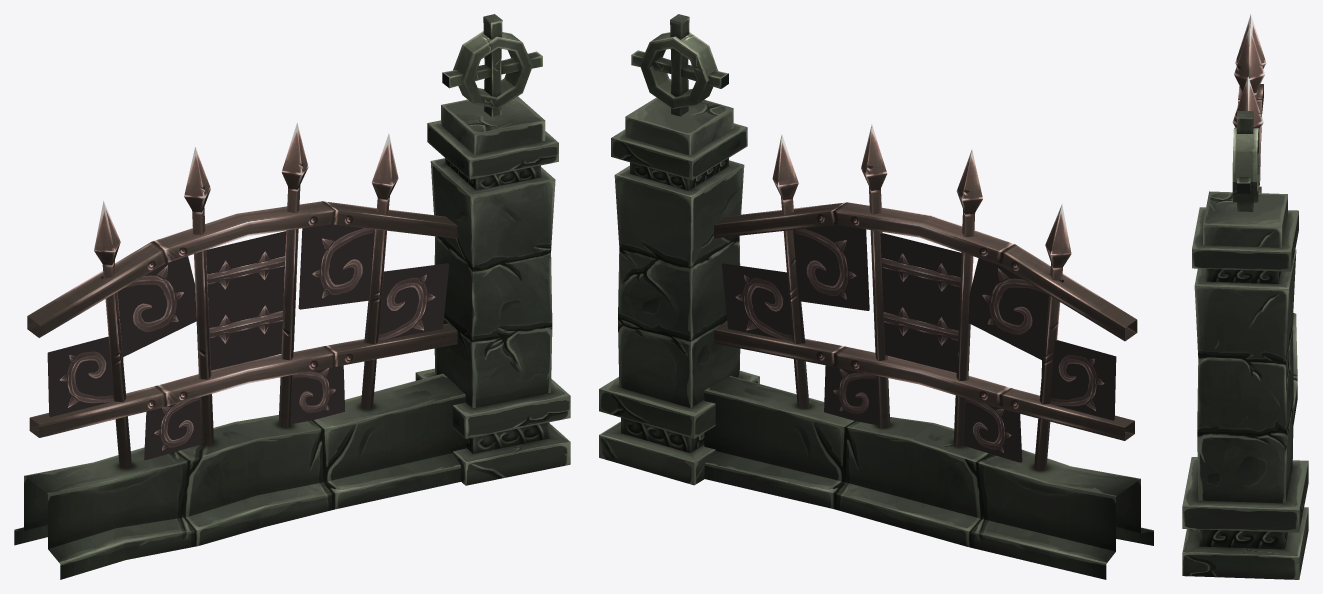
The model's file is fence_wall_02.fbx.
3 views of the same model, side by side, from view 1: azimuth 30°, elevation 25°; view 2: azimuth 150°, elevation 25°; view 3: azimuth 270°, elevation 25° (orthographic).
Visible parts, largest first — view 1: fence_wall_02; view 2: fence_wall_02; view 3: fence_wall_02.
Boxes of the visible parts, bbox=[...] form: fence_wall_02: bbox=[14, 14, 570, 579]; fence_wall_02: bbox=[599, 14, 1153, 579]; fence_wall_02: bbox=[1182, 14, 1308, 579].
Size of the model in its own units: 7.94 by 6.46 by 1.68.
